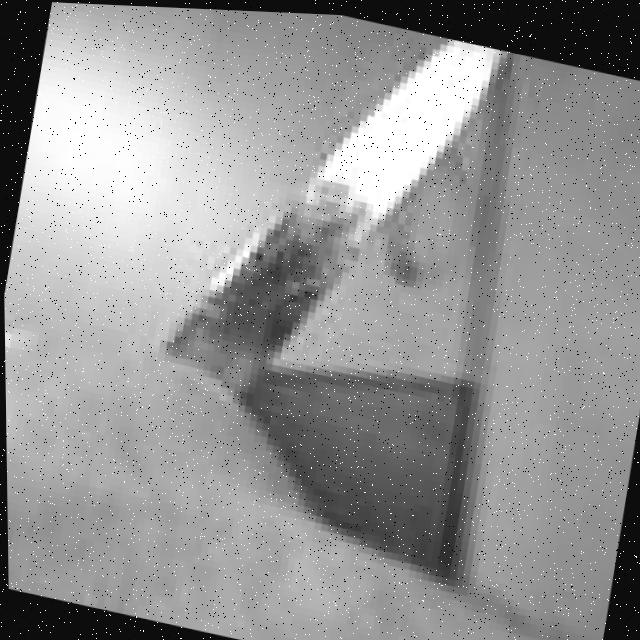knife: (148, 5, 525, 481)
